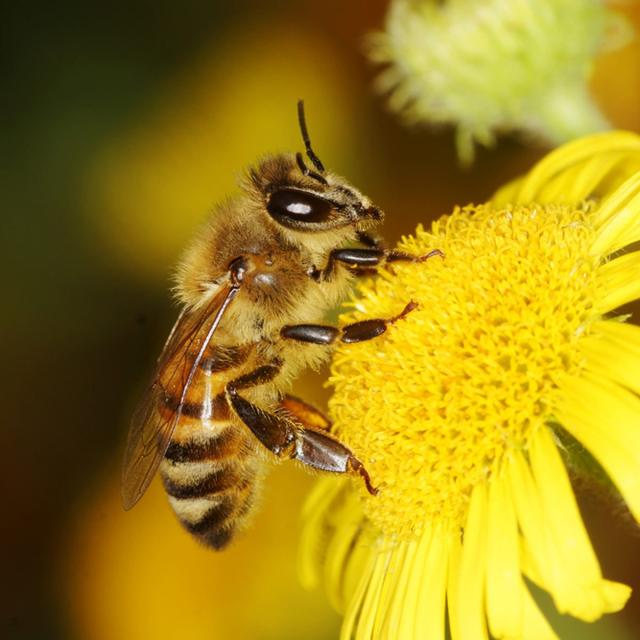Apis-mellifera-scutellata: (121, 120, 435, 554)
